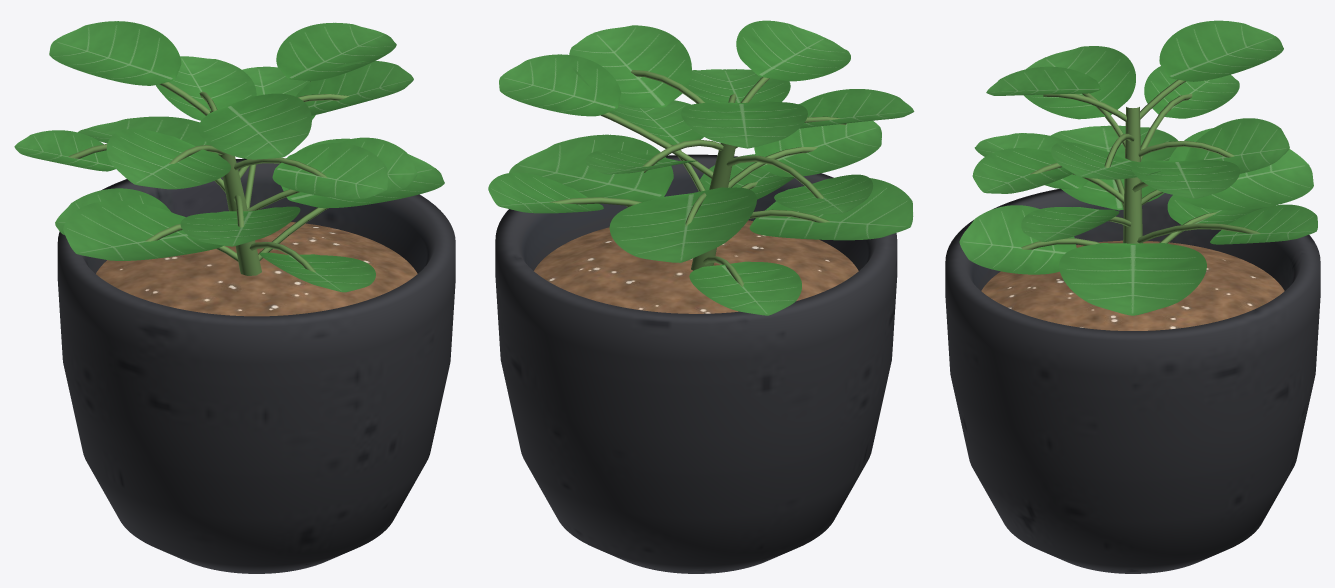
The model's file is pilea.glb.
3 renders of one model, left to right at view 1: azimuth 30°, elevation 25°; view 2: azimuth 150°, elevation 25°; view 3: azimuth 270°, elevation 25°, orthographic. The views are drawn at different scales.
Visible parts, largest first — view 1: piece-0, piece-1, piece-6, piece-16, piece-17, piece-14, piece-10, piece-12, piece-19, piece-13, piece-15, piece-9 (+8 smaller); view 2: piece-0, piece-1, piece-8, piece-15, piece-2, piece-19, piece-10, piece-6, piece-17, piece-16, piece-3, piece-9 (+8 smaller); view 3: piece-0, piece-1, piece-2, piece-16, piece-19, piece-4, piece-14, piece-8, piece-13, piece-10, piece-12, piece-6 (+8 smaller).
Boxes of the visible parts, box(x1,y1,x2,y2) form: piece-0: box(57, 158, 455, 573); piece-1: box(96, 222, 417, 316); piece-6: box(63, 200, 223, 260); piece-16: box(49, 21, 181, 85); piece-17: box(198, 93, 311, 159); piece-14: box(106, 128, 230, 189); piece-10: box(276, 22, 396, 80); piece-12: box(272, 143, 388, 199); piece-19: box(68, 81, 349, 272); piece-13: box(155, 56, 256, 120); piece-15: box(296, 61, 413, 115); piece-9: box(180, 206, 300, 246); piece-0: box(495, 154, 897, 573); piece-1: box(534, 220, 858, 313); piece-8: box(609, 187, 756, 262); piece-15: box(569, 25, 691, 108); piece-2: box(509, 134, 673, 202); piece-19: box(550, 70, 846, 286); piece-10: box(499, 54, 621, 116); piece-6: box(749, 178, 913, 240); piece-17: box(736, 20, 850, 81); piece-16: box(681, 101, 807, 148); piece-3: box(689, 261, 801, 315); piece-9: box(754, 104, 881, 176); piece-0: box(945, 188, 1320, 573); piece-1: box(981, 240, 1284, 330); piece-2: box(1059, 243, 1206, 315); piece-16: box(1159, 20, 1283, 81); piece-19: box(1021, 79, 1260, 249); piece-4: box(959, 205, 1076, 274); piece-14: box(1024, 46, 1135, 119); piece-8: box(1169, 128, 1313, 210); piece-13: box(1184, 118, 1289, 173); piece-10: box(1131, 159, 1239, 198); piece-12: box(972, 148, 1072, 193); piece-6: box(1050, 125, 1178, 210).
Size of the model in its own units: 0.183 by 0.2167 by 0.164.
4 materials, 3 textured.
